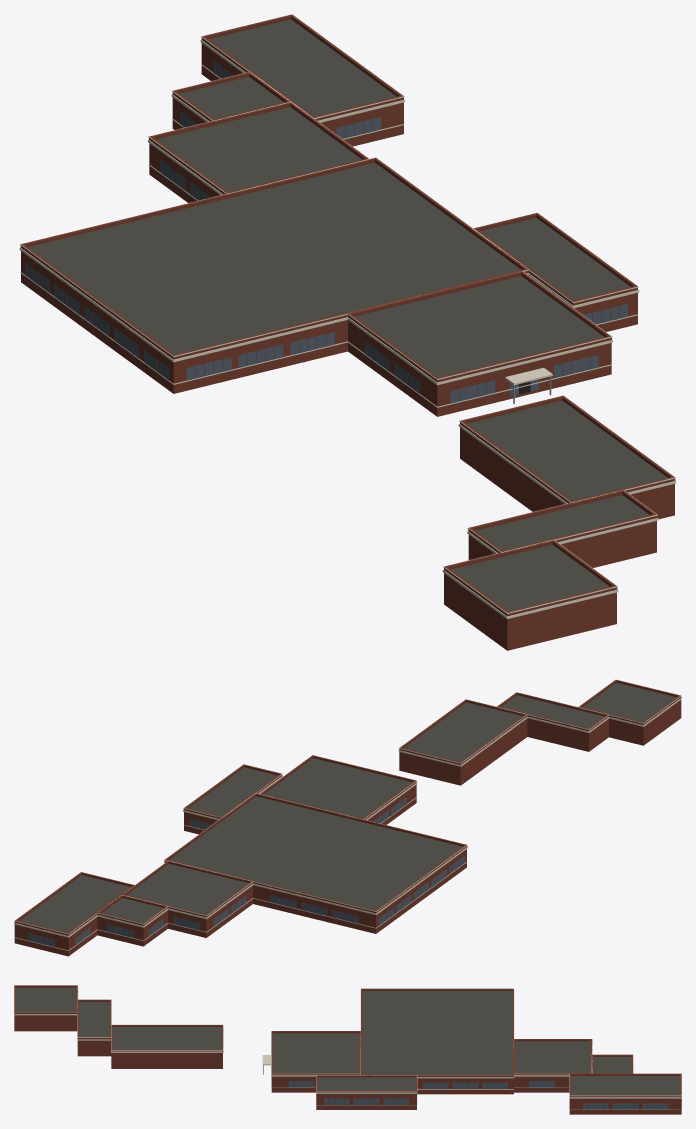
File: chicot-elementary.glb
3 renders of one model, top to bottom at view 1: azimuth 30°, elevation 25°; view 2: azimuth 150°, elevation 25°; view 3: azimuth 270°, elevation 25°, orthographic. The views are drawn at different scales.
Parts seen in each view (by area): view 1: chicot_elementary; view 2: chicot_elementary; view 3: chicot_elementary.
Boxes of the visible parts, left/top/right/bottom form: chicot_elementary: left=19, top=14, right=676, bottom=650; chicot_elementary: left=14, top=679, right=681, bottom=956; chicot_elementary: left=14, top=985, right=681, bottom=1114.
Bounding box in the file's own units: 70.24 × 5.6 × 179.
